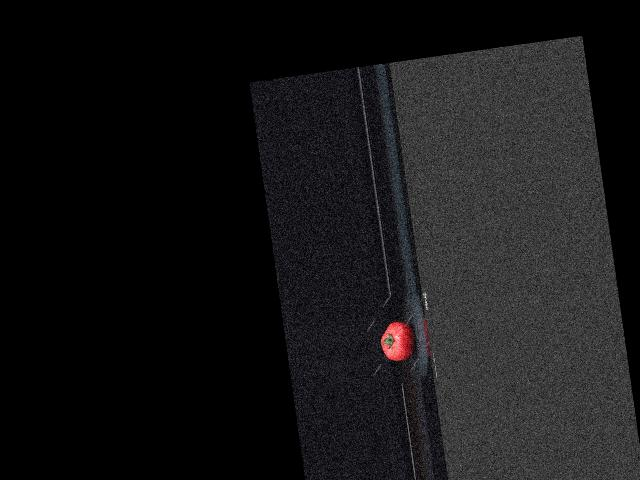tomato: (378, 319, 417, 363)
